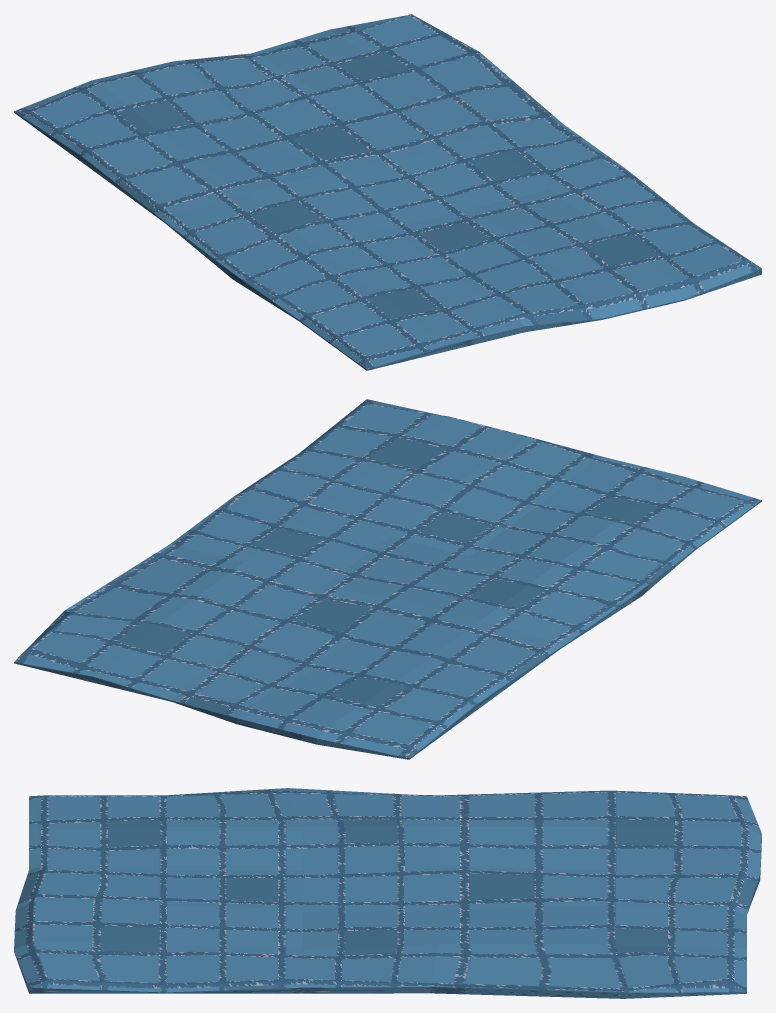
Rendered from Tapijt kort.fbx.
3 views of the same model, one above another, from view 1: azimuth 30°, elevation 25°; view 2: azimuth 150°, elevation 25°; view 3: azimuth 270°, elevation 25° (orthographic).
Visible parts, largest first — view 1: Cube.001; view 2: Cube.001; view 3: Cube.001.
Boxes of the visible parts, <box> form: Cube.001: <box>14,14,761,370</box>; Cube.001: <box>14,399,761,759</box>; Cube.001: <box>14,788,761,998</box>.
Size of the model in its own units: 651 by 15.56 by 1006.
